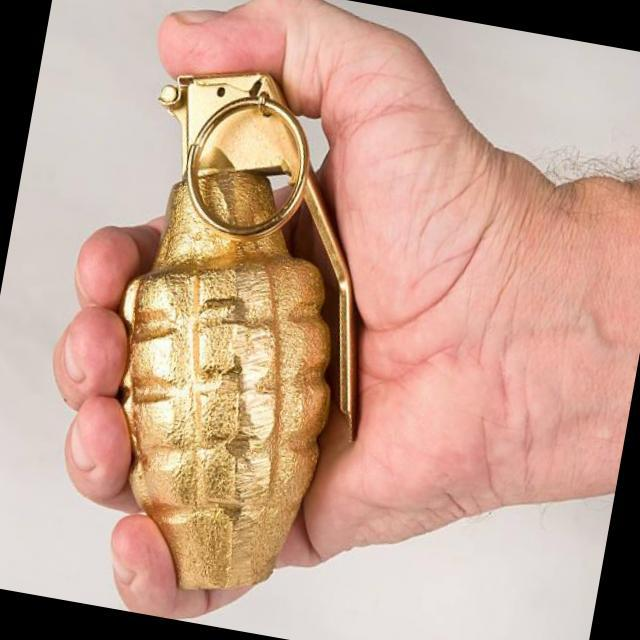grenade: (66, 36, 426, 618)
